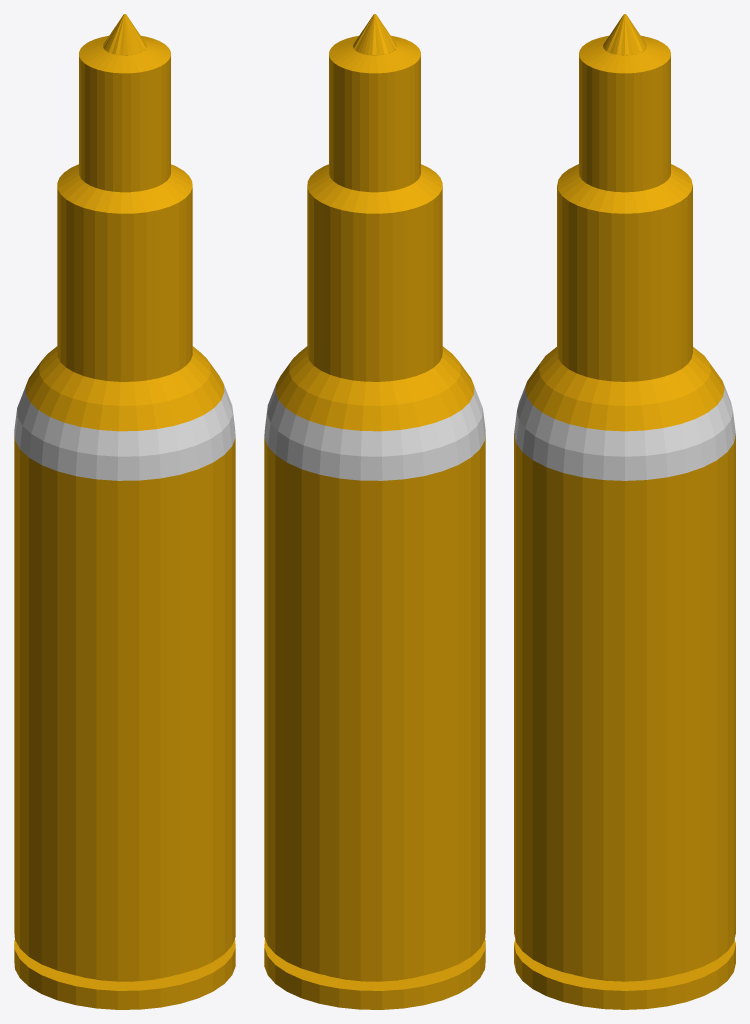
Rendered from bullet.fbx.
The picture shows the model from 3 angles, left to right: view 1: azimuth 30°, elevation 25°; view 2: azimuth 150°, elevation 25°; view 3: azimuth 270°, elevation 25°; orthographic projection.
Parts seen in each view (by area): view 1: Cylinder; view 2: Cylinder; view 3: Cylinder.
Boxes of the visible parts, x1,y1,x2,y2 form: Cylinder: (14,14,235,1009); Cylinder: (264,14,485,1009); Cylinder: (514,14,735,1009).
Bounding box in the file's own units: 200 × 943 × 200.
